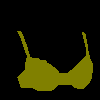reggiseno: (17, 30, 93, 91)
